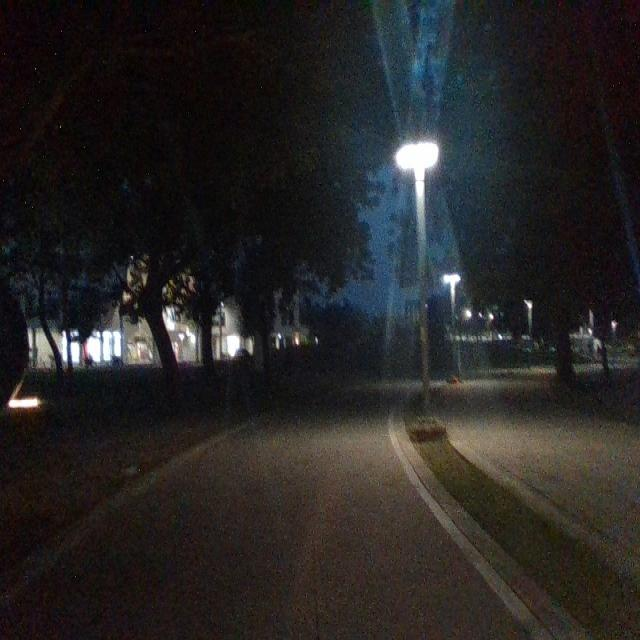lane: (1, 416, 530, 639)
